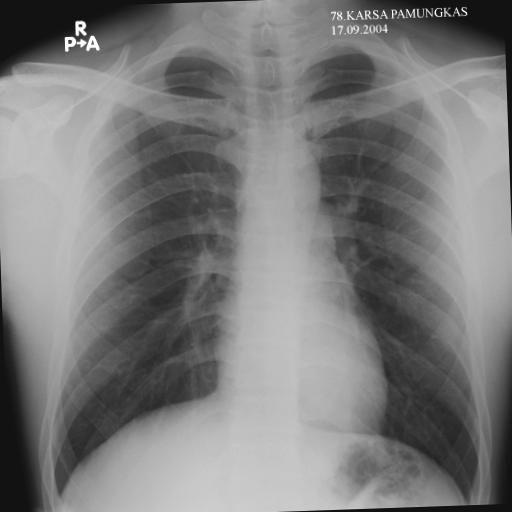normal: (25, 12, 494, 512)
